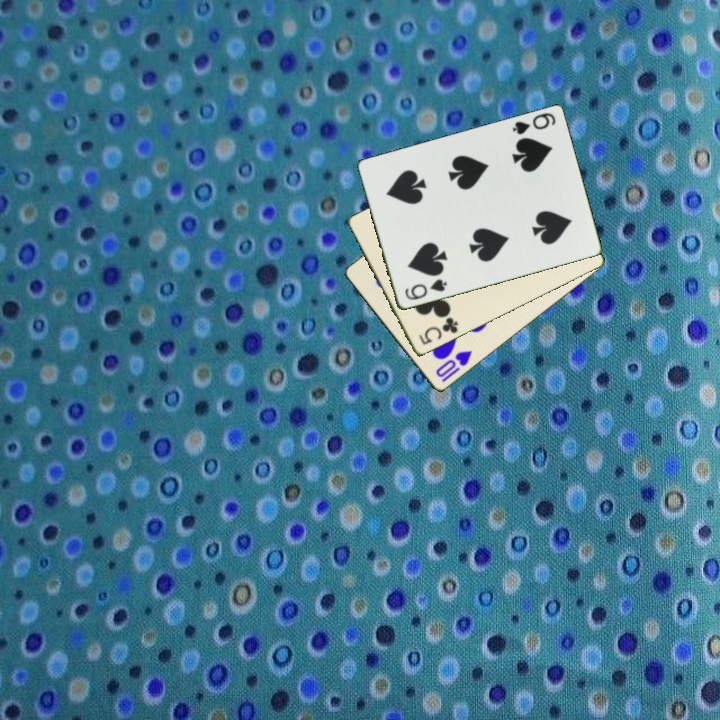10h: (432, 347, 475, 386)
5c: (415, 314, 462, 348)
6s: (508, 110, 558, 138), (401, 276, 450, 303)
